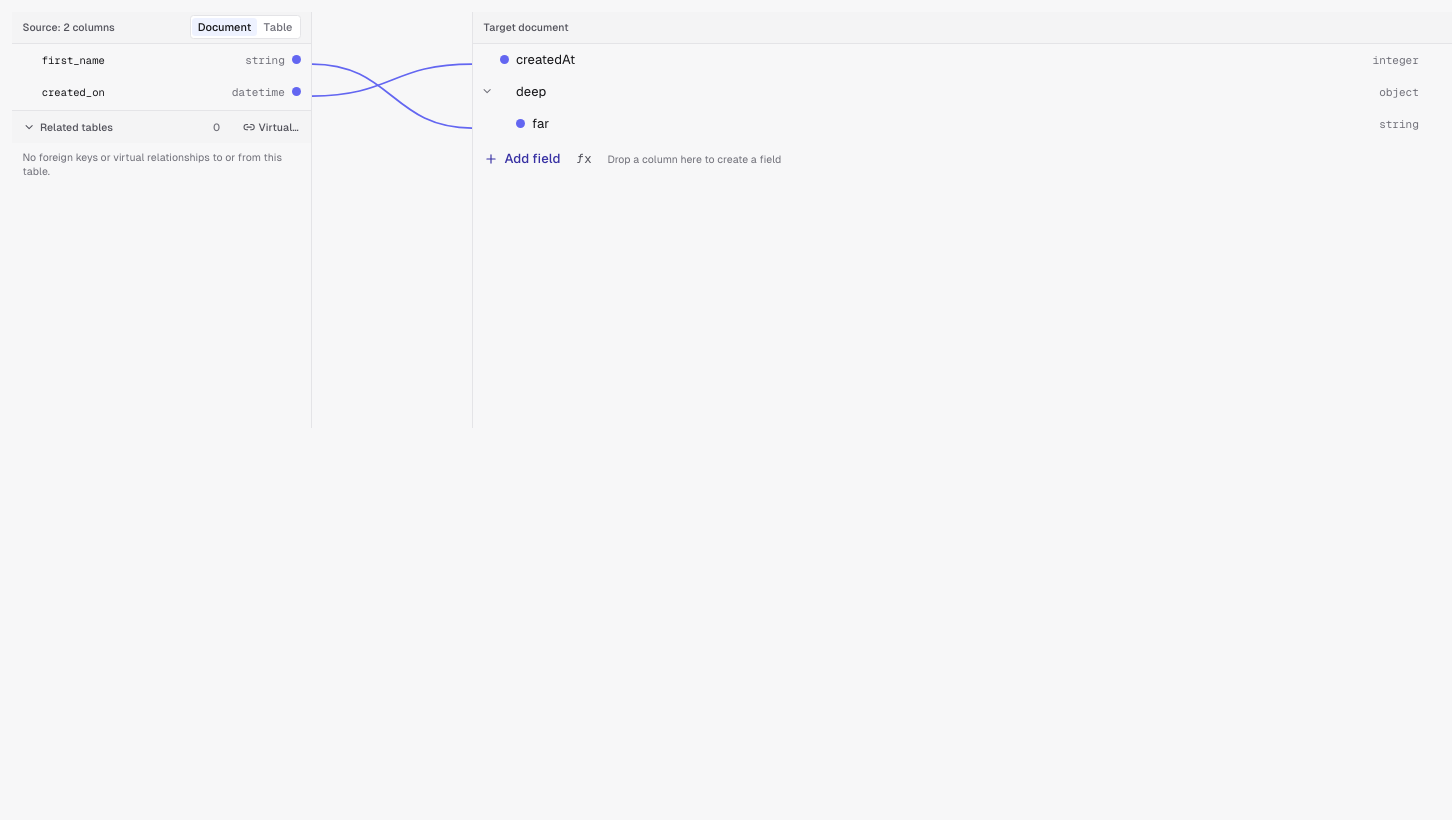
Test case: MappingCanvas › OC-174: selecting one end reveals the other › AC3: an end hidden by the filter says so and offers to show it
The width and height of the screenshot is (1452, 820).
Manual: first_name shows (it fills deep.far by hand), name.first (auto-mapped) doesn't.
Click the element with test id "source-first_name" at (73, 60), box left=42, top=52, right=301, bottom=66
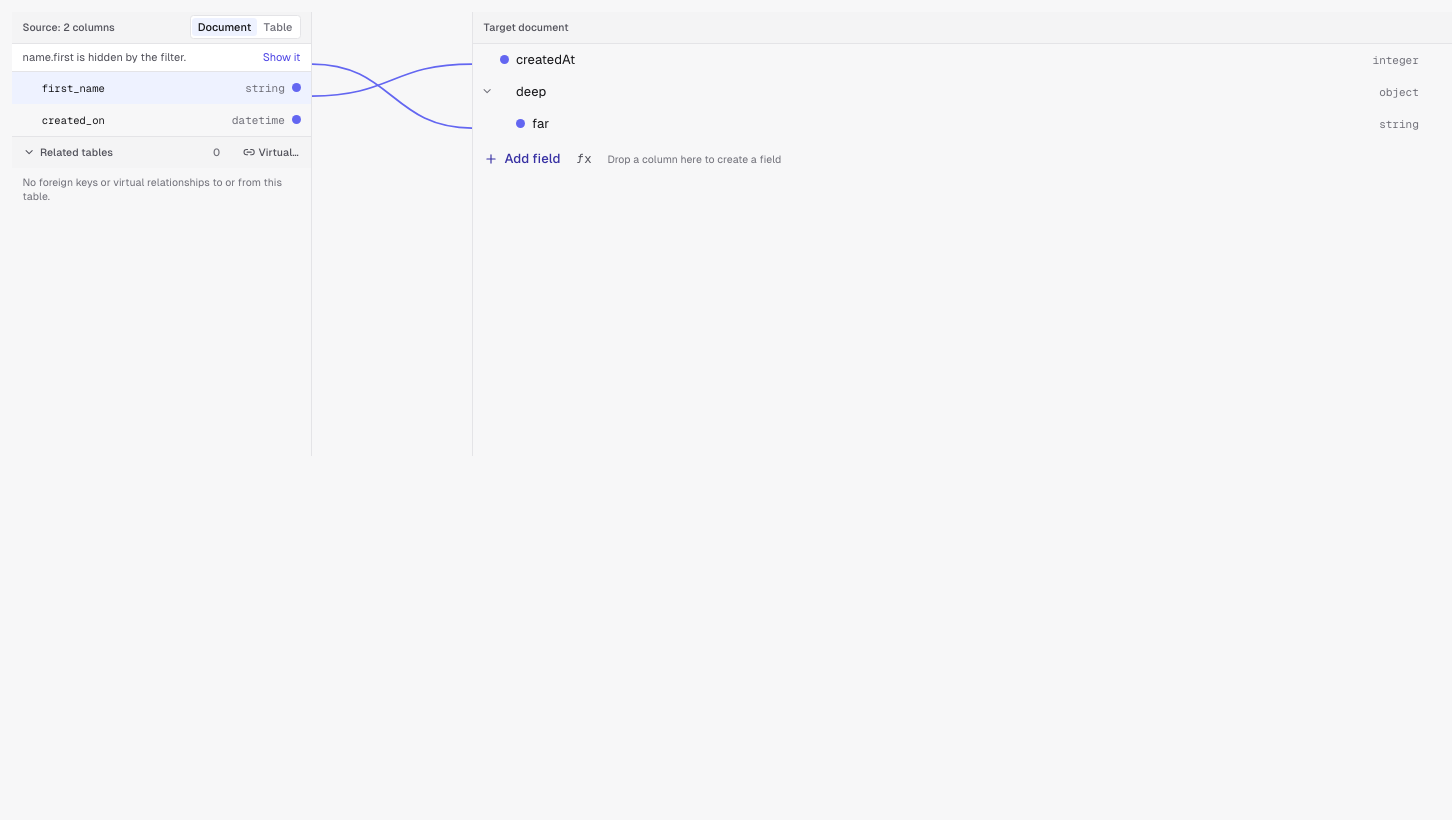
Expected: the message shows "name.first is hidden by the filter.", left=22, top=51, right=186, bottom=63
Click the button "Show it" at (282, 57), box left=263, top=47, right=300, bottom=67
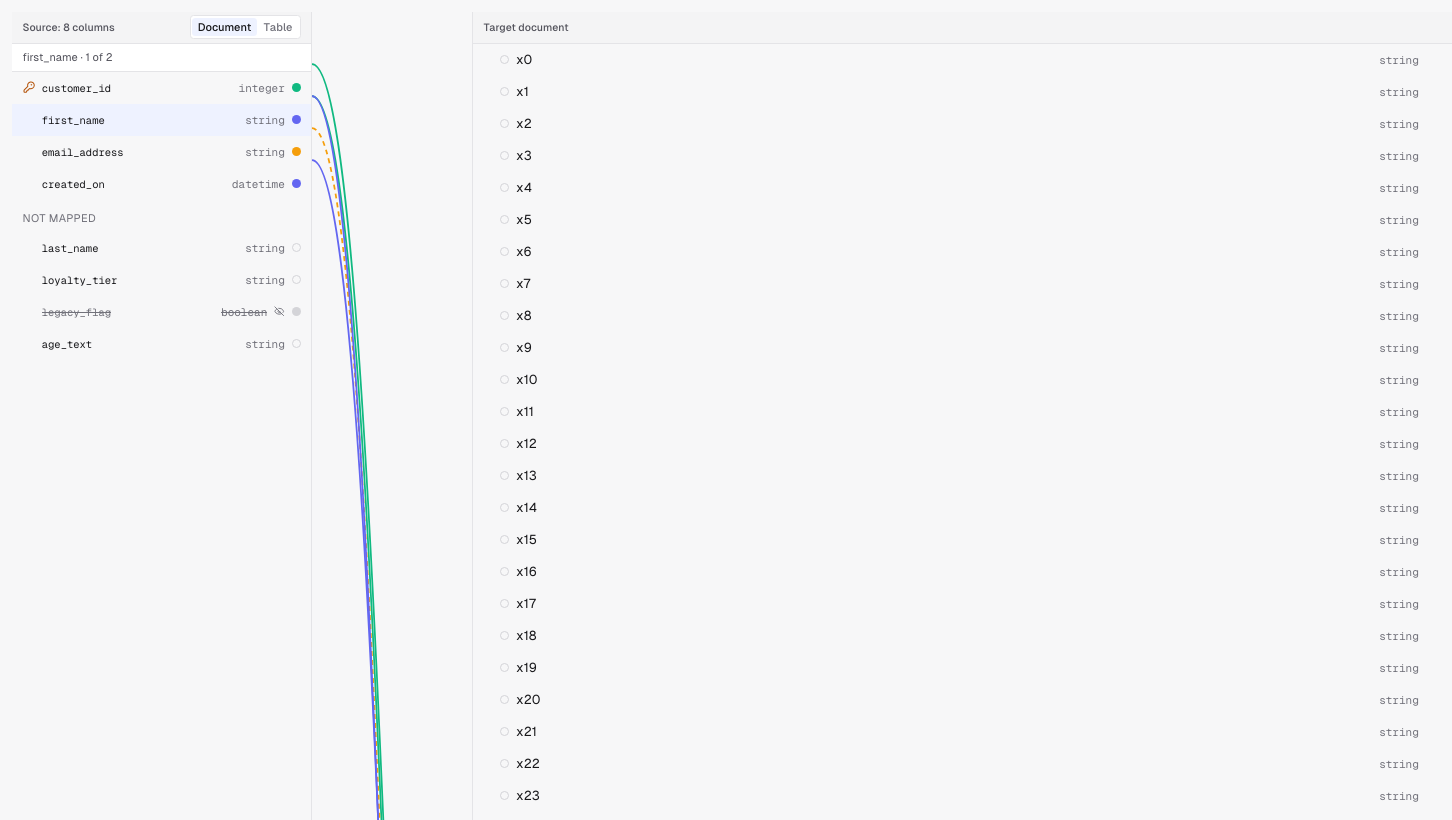
Expected: the message reads "first_name · 1 of 2", left=22, top=51, right=113, bottom=63
